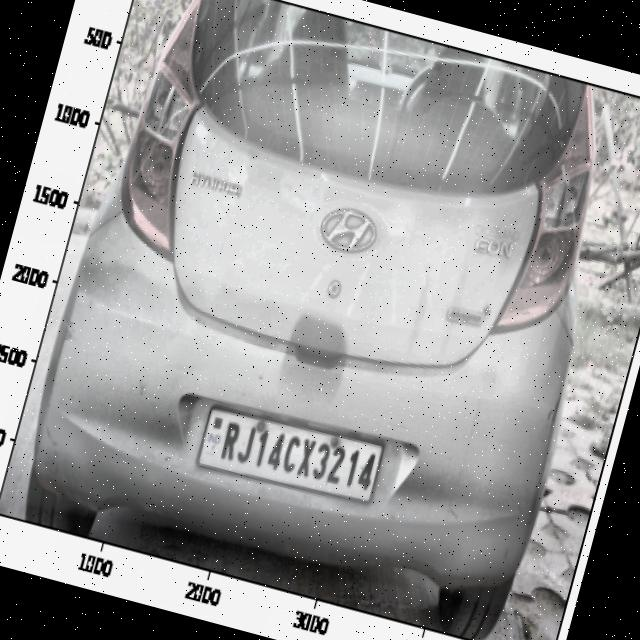license_plate: (208, 404, 389, 514)
